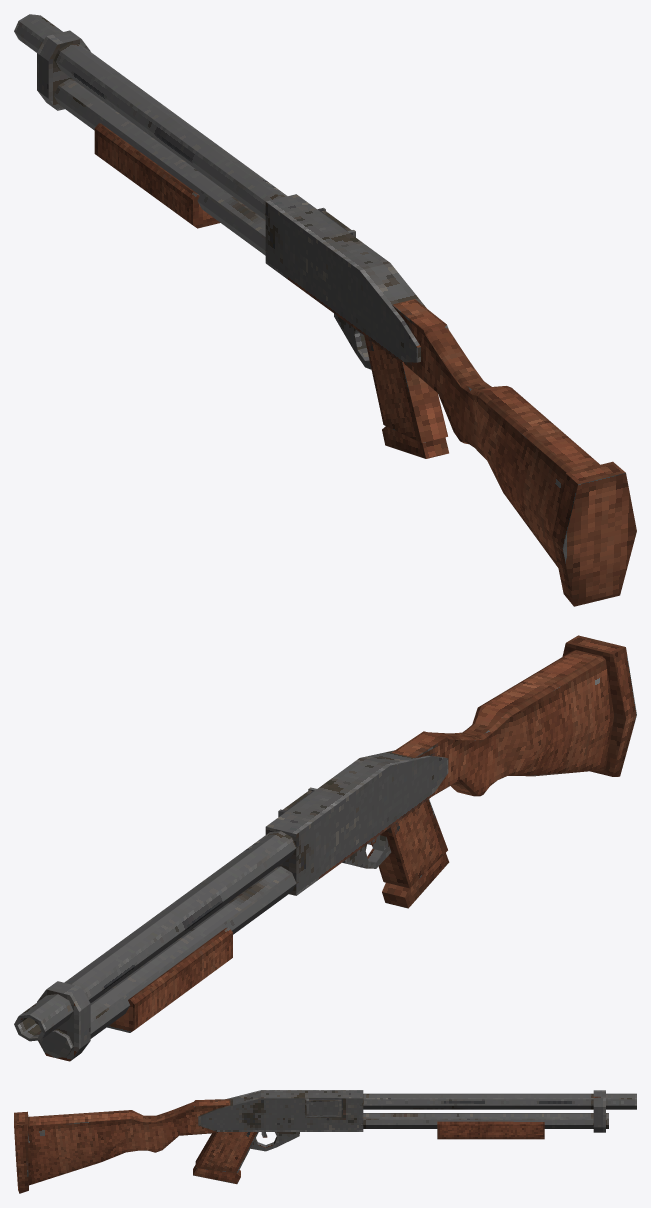
Rendered from Shotgun.glb.
3 views of the same model, one above another, from view 1: azimuth 30°, elevation 25°; view 2: azimuth 150°, elevation 25°; view 3: azimuth 270°, elevation 25° (orthographic). The views are drawn at different scales.
Visible parts, largest first — view 1: Shotgun, Shotgun-Detach; view 2: Shotgun, Shotgun-Detach; view 3: Shotgun, Shotgun-Detach.
Boxes of the visible parts, bbox=[...] form: Shotgun: bbox=[14, 14, 636, 606]; Shotgun-Detach: bbox=[94, 123, 220, 228]; Shotgun: bbox=[14, 635, 636, 1061]; Shotgun-Detach: bbox=[107, 927, 232, 1032]; Shotgun: bbox=[14, 1090, 636, 1193]; Shotgun-Detach: bbox=[437, 1121, 544, 1139].
Size of the model in its own units: 0.1035 by 0.2316 by 1.39.
1 material, 1 textured.
